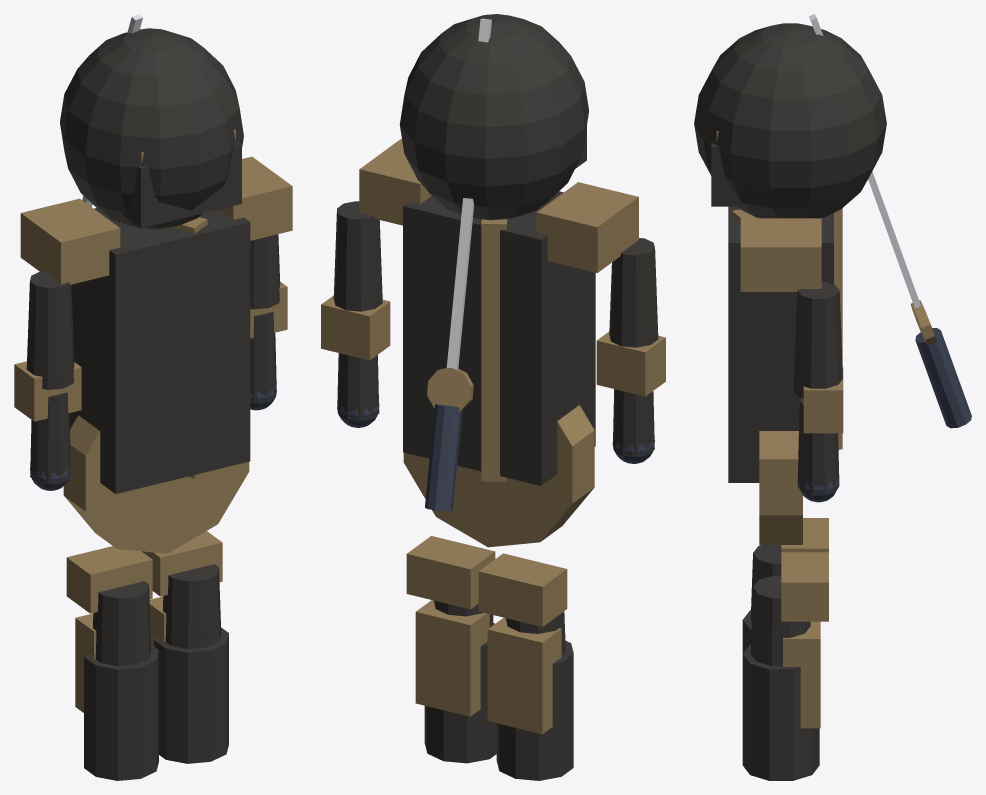
The model's file is ninja.glb.
3 renders of one model, left to right at view 1: azimuth 30°, elevation 25°; view 2: azimuth 150°, elevation 25°; view 3: azimuth 270°, elevation 25°, orthographic. The views are drawn at different scales.
Parts seen in each view (by area): view 1: torso, head, legL, legR, belt, armBack, shoulder_l, armFront, legL_knee, shoulder_r, legR_knee, armBack_guard (+4 smaller); view 2: torso, head, belt, armFront, armBack, katana, shoulder_l, legL_shin, legR_shin, legL, legL_knee, chest_wrap (+5 smaller); view 3: head, torso, legR, armFront, shoulder_r, belt, katana, legR_knee, legR_shin, armFront_guard, legL, chest_wrap (+2 smaller).
Part boxes in pixels (x1,y1,x2,y2): torso: (69,208,250,493); head: (60,28,243,229); legL: (84,581,158,780); legR: (154,564,228,763); belt: (63,415,249,553); armBack: (26,271,74,483); shoulder_l: (20,198,120,284); armFront: (250,234,280,403); legL_knee: (66,546,152,613); shoulder_r: (219,156,292,240); legR_knee: (142,531,222,596); armBack_guard: (14,361,81,421); torso: (403,191,595,485); head: (399,14,588,220); belt: (403,405,594,547); armFront: (333,201,382,420); armBack: (609,238,658,456); katana: (425,18,491,511); shoulder_l: (536,182,638,272); legL_shin: (487,617,561,734); legR_shin: (415,600,489,716); legL: (496,611,573,780); legL_knee: (478,553,567,626); chest_wrap: (481,219,507,481); head: (694,23,886,218); torso: (728,206,833,482); legR: (742,575,819,780); armFront: (793,282,842,494); shoulder_r: (740,218,821,291); belt: (759,431,802,544); katana: (809,14,971,428); legR_knee: (781,552,828,621); legR_shin: (783,621,820,728); armFront_guard: (803,367,843,433); legL: (742,545,781,653); chest_wrap: (732,208,842,449).
Bounding box in the file's own units: 71.81 × 176 × 60.68.
